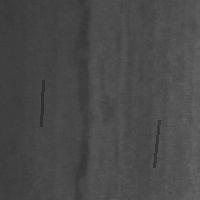inclusion: (69, 2, 115, 197), (152, 118, 161, 169), (39, 78, 45, 128)
